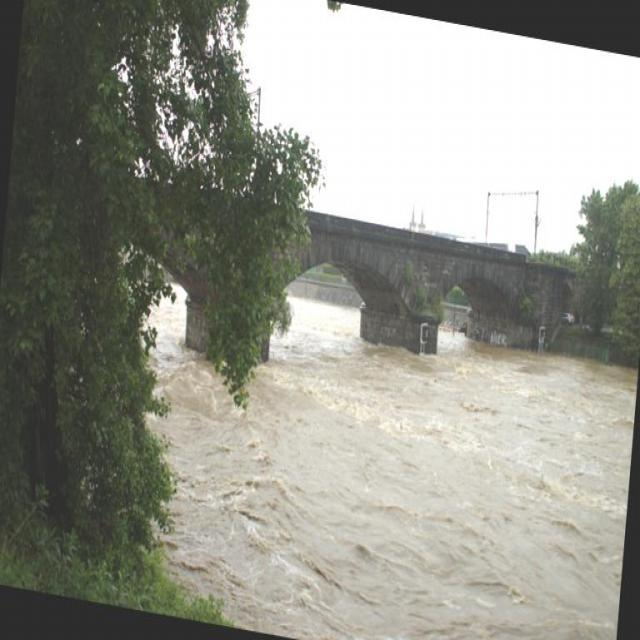flood: (114, 269, 639, 640)
